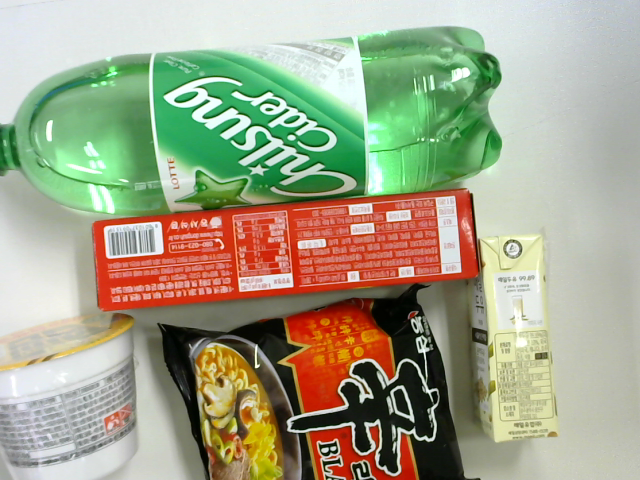99.89_Soymilk: (447, 232, 563, 446)
Chilseong_Cider_1.5L: (5, 22, 503, 220)
Hejangmini: (3, 312, 144, 480)
Ritz_Cracker: (85, 194, 483, 294)
Sinramen_Black: (149, 286, 466, 480)
